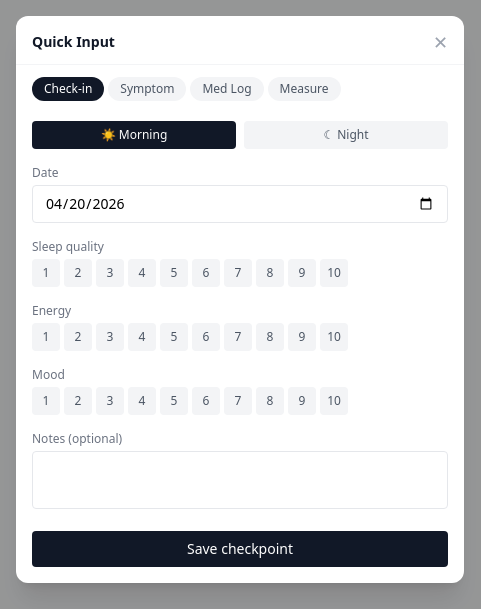
Scenario: Quick Input — Symptom started_at collapsible (Q1) › shows datetime input after clicking "edit time"
The width and height of the screenshot is (481, 609).
Click the button "Symptom" at point(147, 88), box [108, 76, 186, 100]
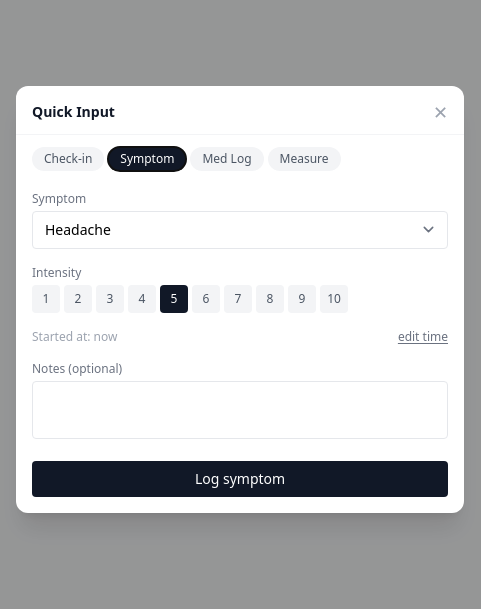
Click the button "edit time" at point(423, 336), box [398, 328, 448, 344]
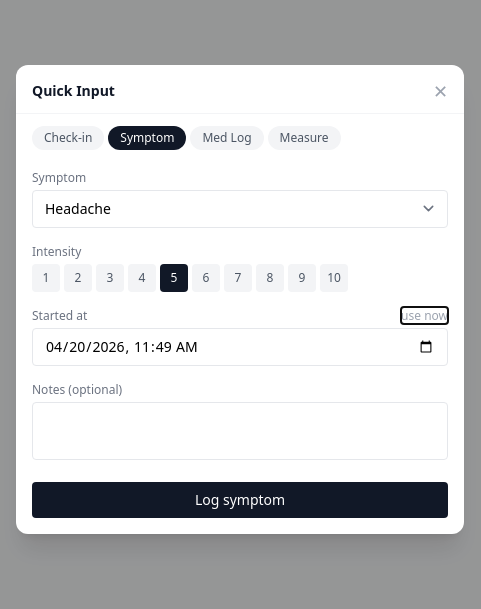
expect the button "use now" is shown: met, box [401, 308, 448, 324]
expect the button "edit time" is gone: met
